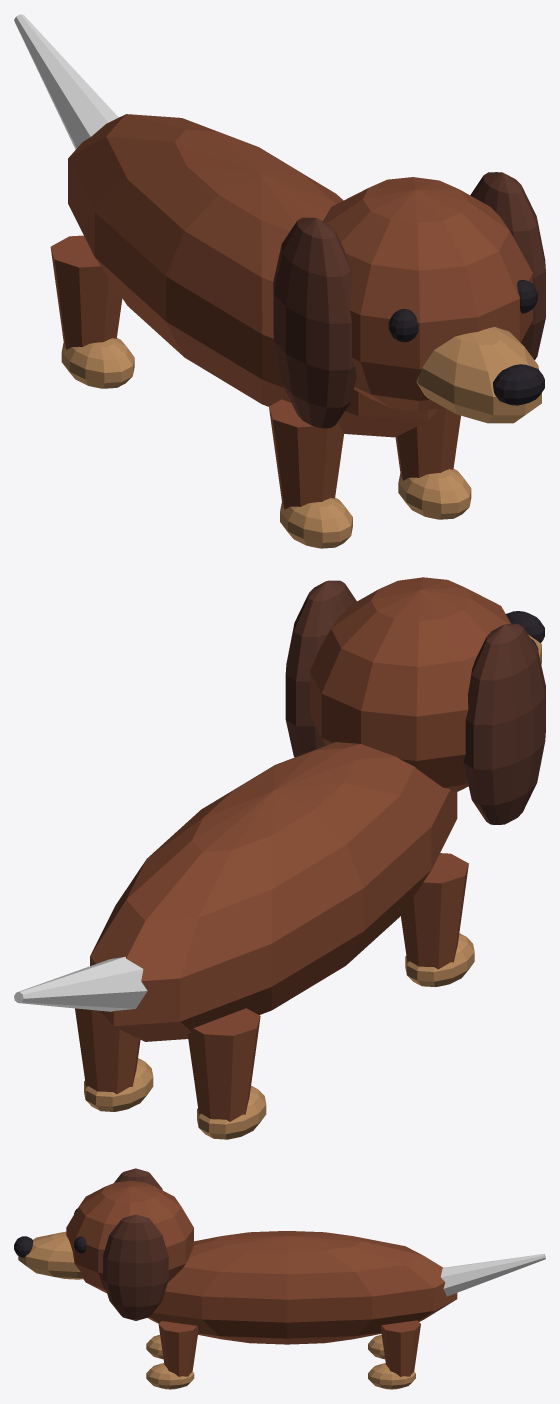
The model's file is dachshund.fbx.
The picture shows the model from 3 angles, top to bottom: view 1: azimuth 30°, elevation 25°; view 2: azimuth 150°, elevation 25°; view 3: azimuth 270°, elevation 25°; orthographic projection. The views are drawn at different scales.
Visible parts, largest first — view 1: Body, HindLeft, ForeLeft, ForeRight, Tail; view 2: Body, HindLeft, ForeLeft, HindRight, Tail; view 3: Body, HindRight, ForeRight, Tail, ForeLeft, HindLeft.
Part boxes in pixels (box(x1,y1,x2,y2)): Body: box(68, 114, 545, 437); HindLeft: box(50, 235, 134, 388); ForeLeft: box(269, 399, 352, 548); ForeRight: box(395, 408, 471, 519); Tail: box(14, 14, 118, 149); Body: box(90, 577, 545, 1041); HindLeft: box(188, 1008, 266, 1139); ForeLeft: box(401, 853, 474, 986); HindRight: box(75, 1008, 153, 1111); Tail: box(14, 956, 147, 1011); Body: box(14, 1168, 457, 1344); HindRight: box(368, 1320, 420, 1389); ForeRight: box(146, 1321, 198, 1389); Tail: box(441, 1254, 545, 1296); ForeLeft: box(146, 1334, 163, 1359); HindLeft: box(368, 1334, 385, 1359).
Bounding box in the file's own units: 38.16 × 54.2 × 140.
